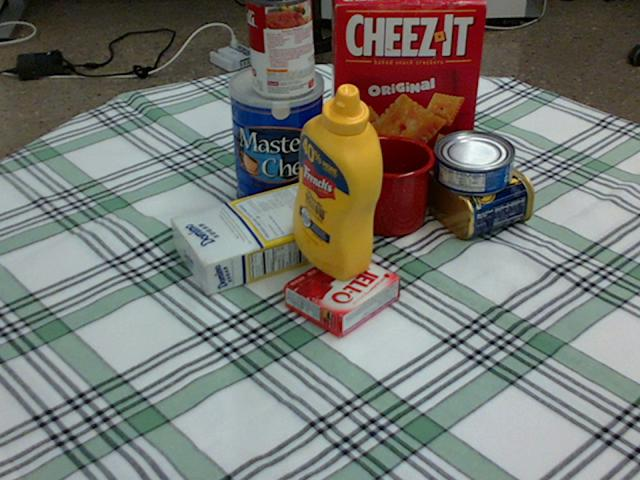cracker_box: (331, 0, 486, 180)
gelatin_box: (285, 249, 401, 337)
master_chef_can: (227, 63, 324, 216)
mug: (349, 133, 436, 235)
mustard_bottle: (292, 83, 382, 279)
potted_meat_can: (418, 144, 532, 235)
sugar_box: (169, 176, 359, 294)
tomato_soup_can: (246, 0, 314, 98)
tuna_fish_can: (433, 131, 514, 194)
